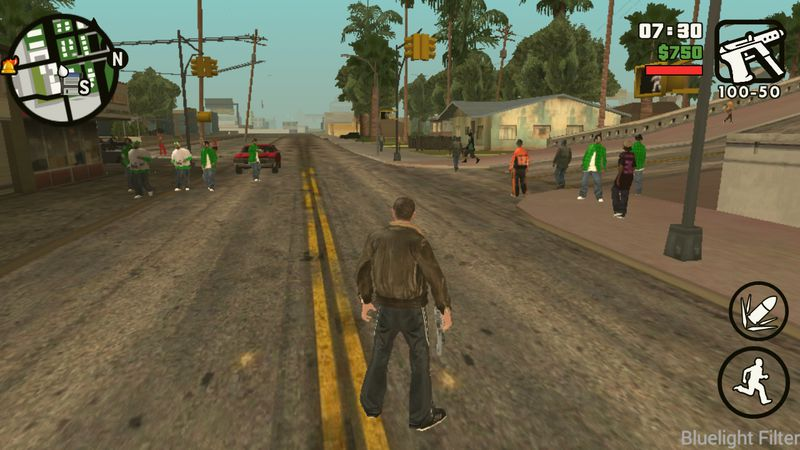person: (355, 203, 453, 438), (612, 141, 637, 223), (582, 137, 606, 207), (126, 143, 155, 196), (194, 137, 220, 196), (509, 134, 531, 200), (169, 139, 194, 197), (548, 140, 570, 194), (246, 140, 262, 183)
